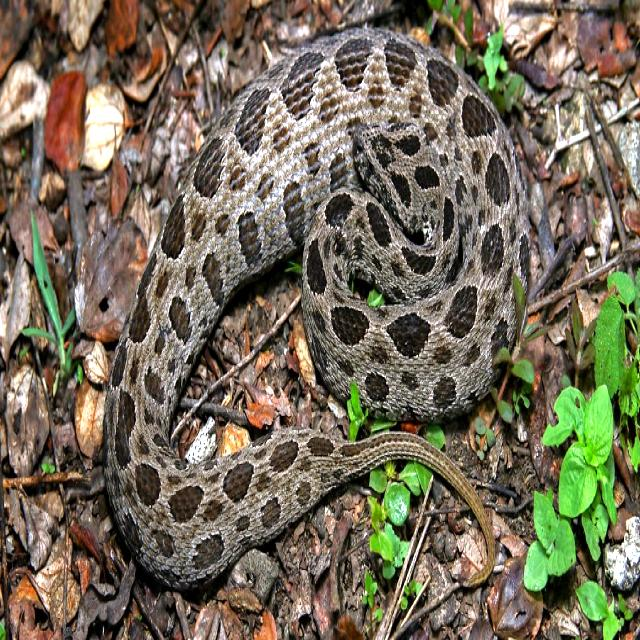Daboia siamensis: (105, 30, 528, 589)
snake: (105, 30, 528, 589)
